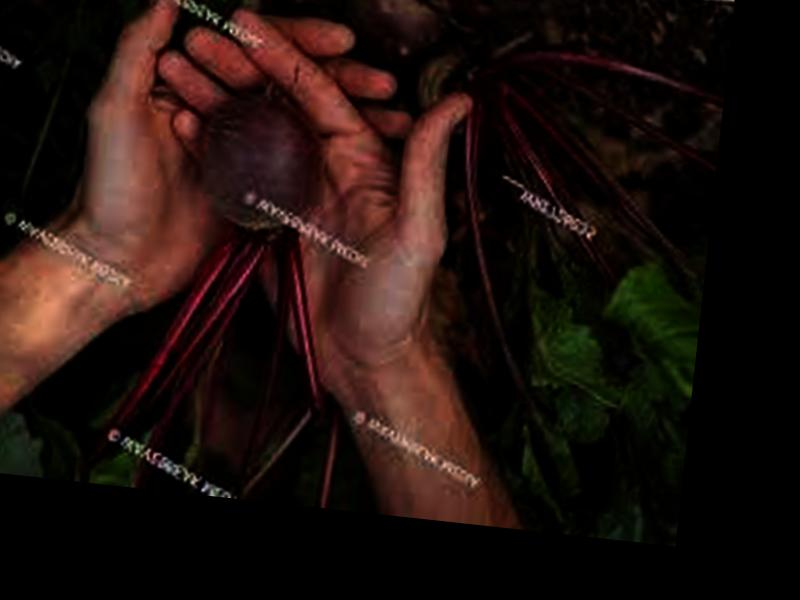Beet: (78, 64, 361, 494)
